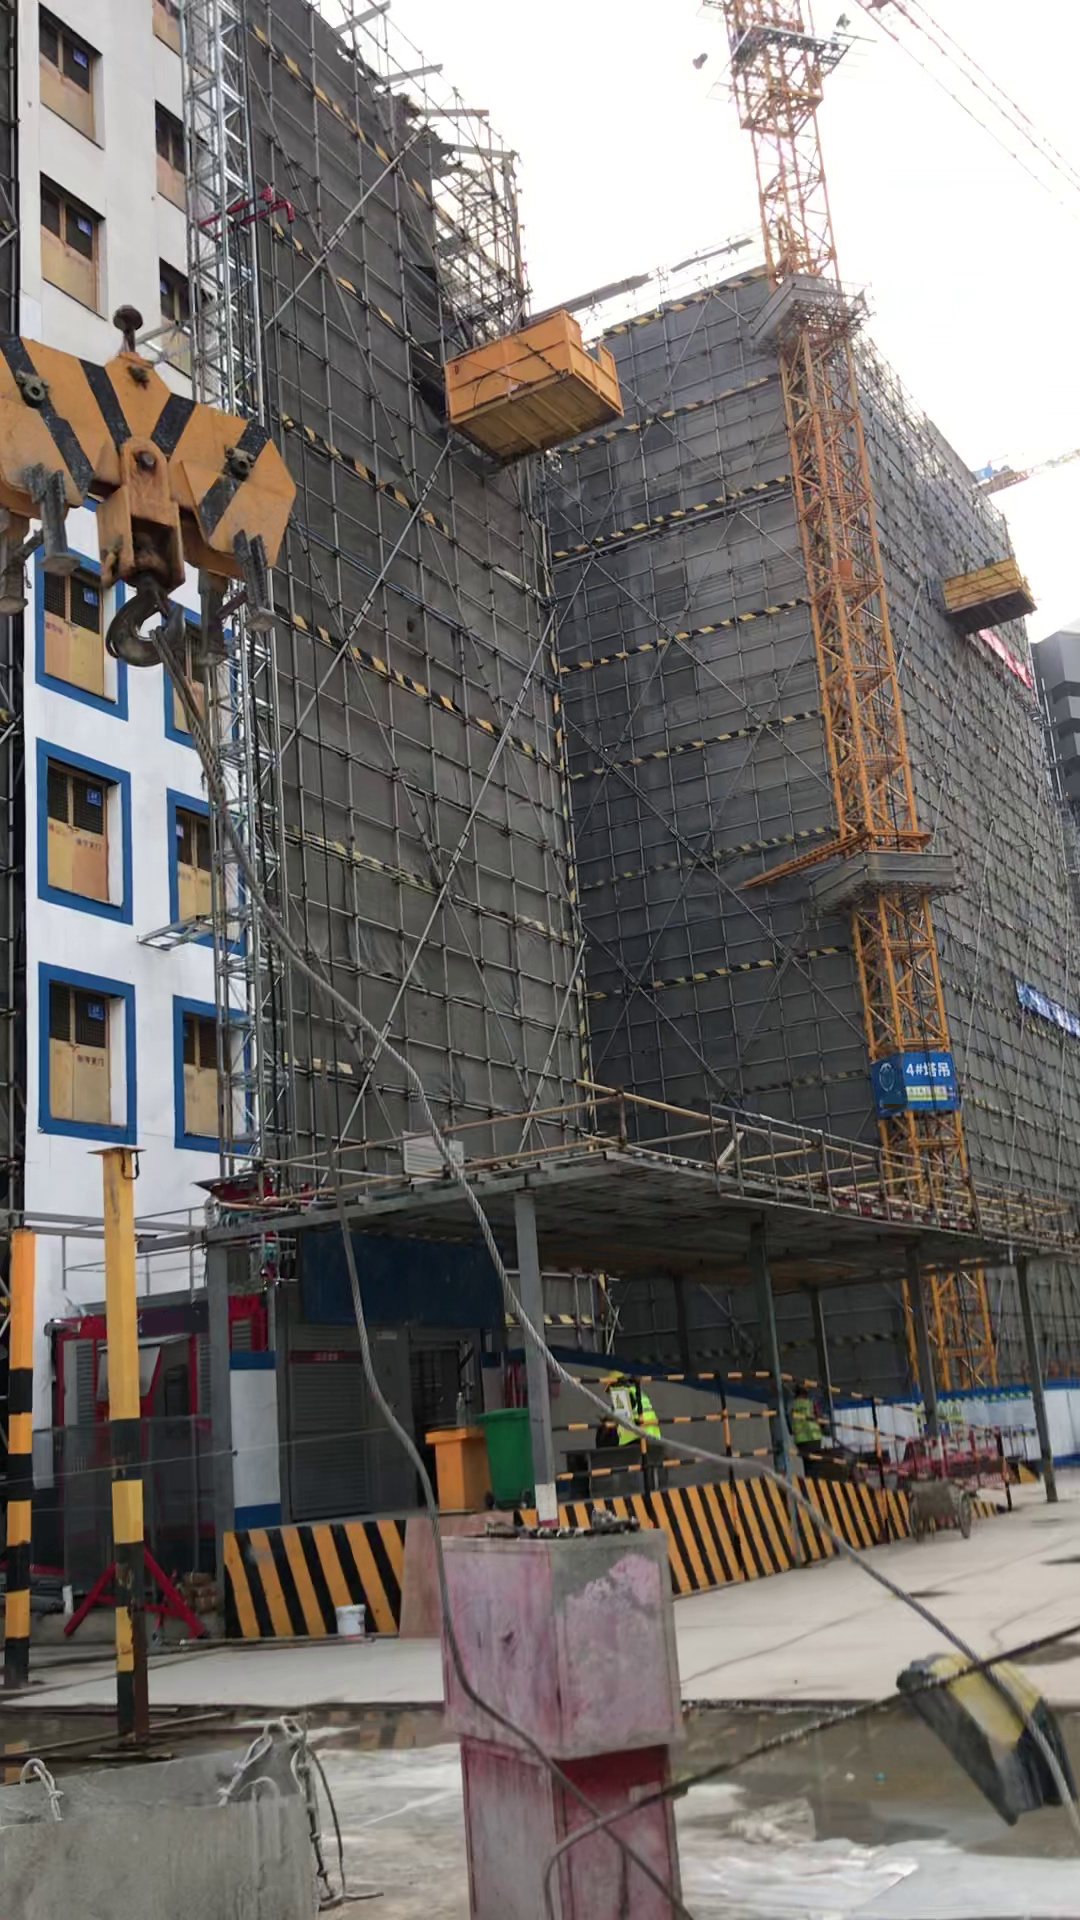fence: (546, 1368, 1022, 1509)
helmet: (592, 1364, 621, 1391)
hook: (5, 258, 326, 807)
hopper: (5, 1667, 366, 1920)
person: (600, 1363, 694, 1511), (781, 1378, 845, 1480)
slogan: (995, 965, 1080, 1068), (861, 1050, 967, 1131), (972, 624, 1044, 699), (596, 1382, 640, 1452)
vest: (619, 1382, 664, 1445), (783, 1397, 826, 1448)
